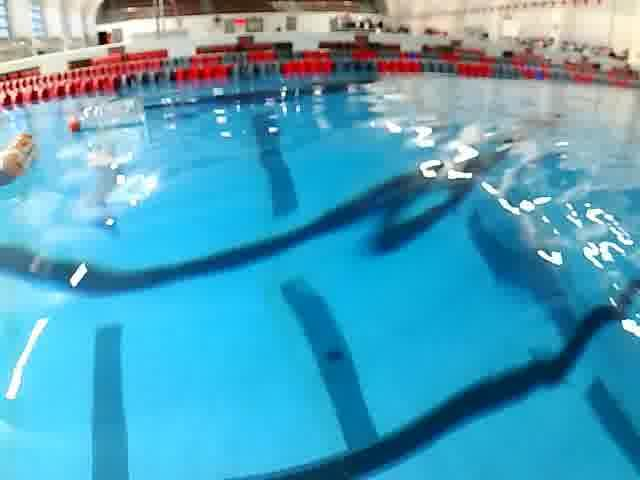Bottle: (64, 87, 154, 142), (0, 126, 45, 192)
